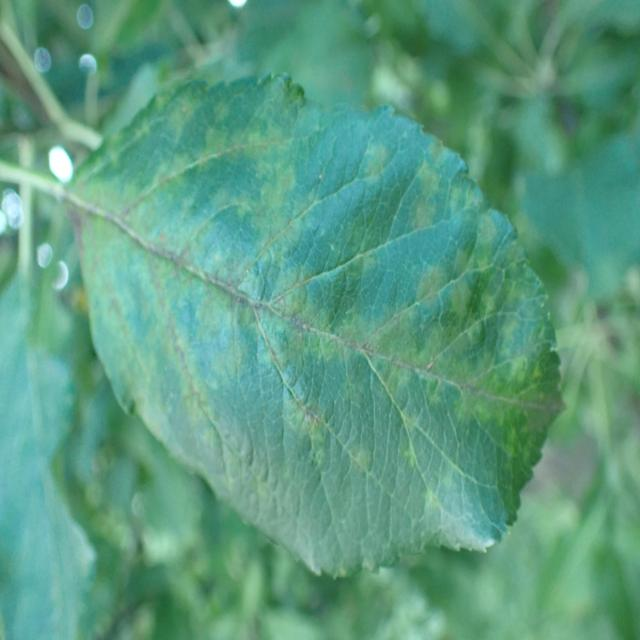scab: (68, 137, 569, 551)
